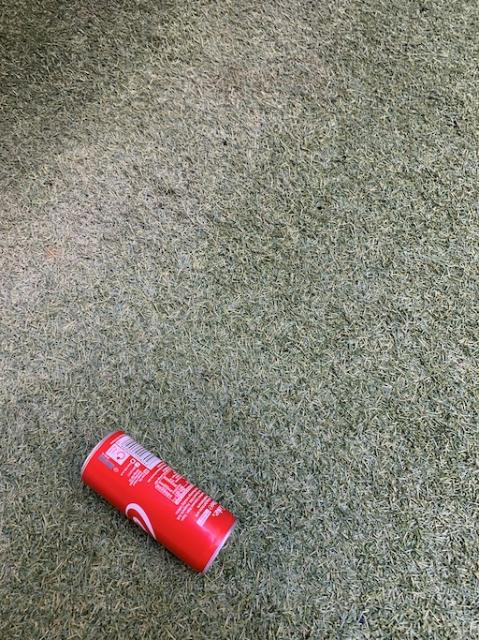metal: (81, 430, 234, 571)
